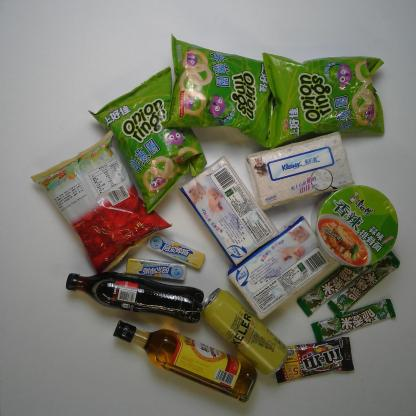Alcohol: (200, 287, 290, 377)
Candy: (144, 232, 206, 271), (125, 256, 188, 283)
Chocolate: (326, 250, 402, 318), (296, 264, 374, 318), (310, 298, 398, 344), (276, 336, 355, 384)
Drink: (64, 270, 206, 325)
Instant Noodles: (310, 184, 400, 268)
Puffed Food: (29, 128, 175, 274), (86, 64, 208, 216), (159, 32, 276, 149), (260, 51, 386, 149)
Seasoner: (113, 319, 258, 404)
Tissue: (226, 212, 342, 322), (178, 154, 282, 268), (244, 130, 357, 212)
